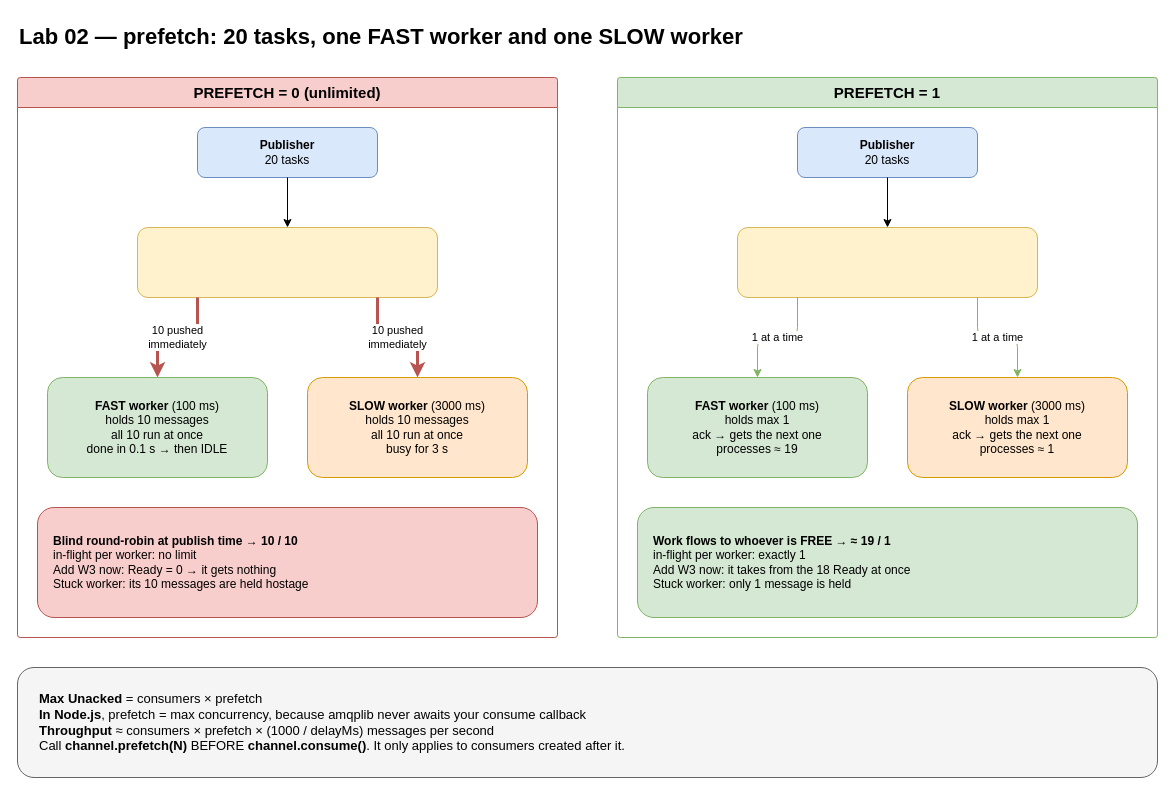
This 1175x795 diagram has some shape labels left out. The centre of each missing label's shape, as x and y in pixels:
Queue: tasks Ready: 0 | Unacked: 20: [287,262]
Queue: tasks Ready: 18 | Unacked: 2: [887,262]
